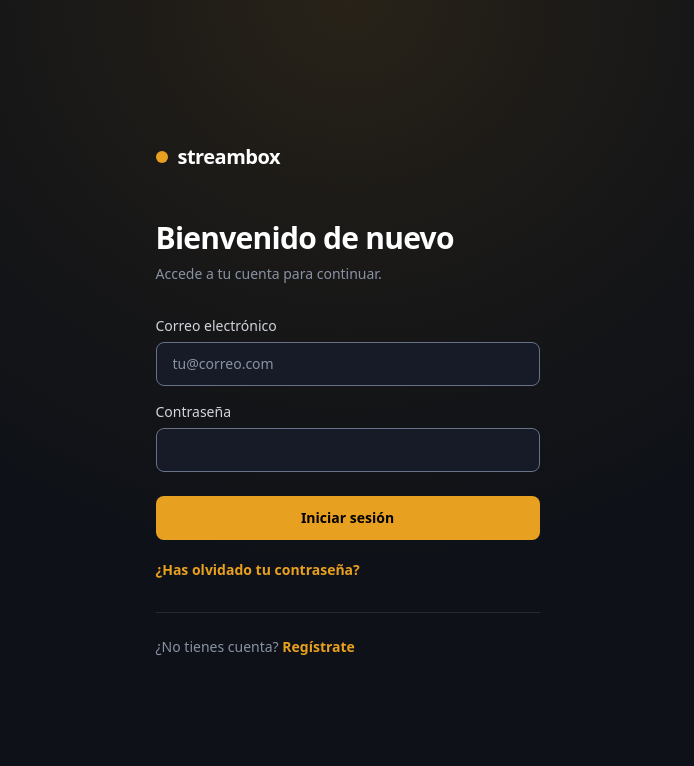
Test case: LoginPage › intentos restantes (401 con remainingAttempts) › sin remainingAttempts (o con un valor que no es un entero ≥ 1) no inventa ningún aviso
The image size is (694, 766).
Type "ana@example.com" into the field labelled "Correo electrónico". click: (348, 364)
box: x1=156 y1=342 x2=540 y2=386
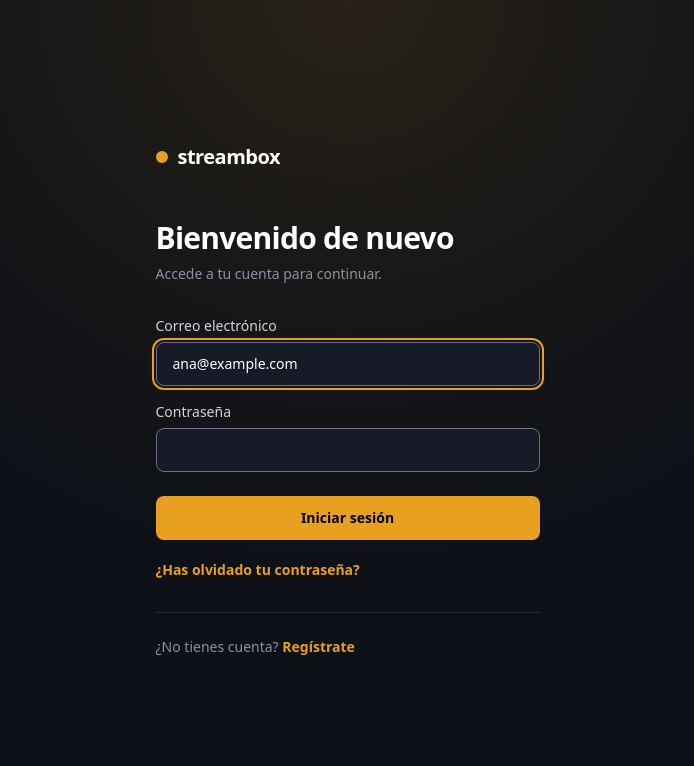
Type "secreta123" into the password field labelled "Contraseña". click: (348, 450)
box: x1=156 y1=428 x2=540 y2=472
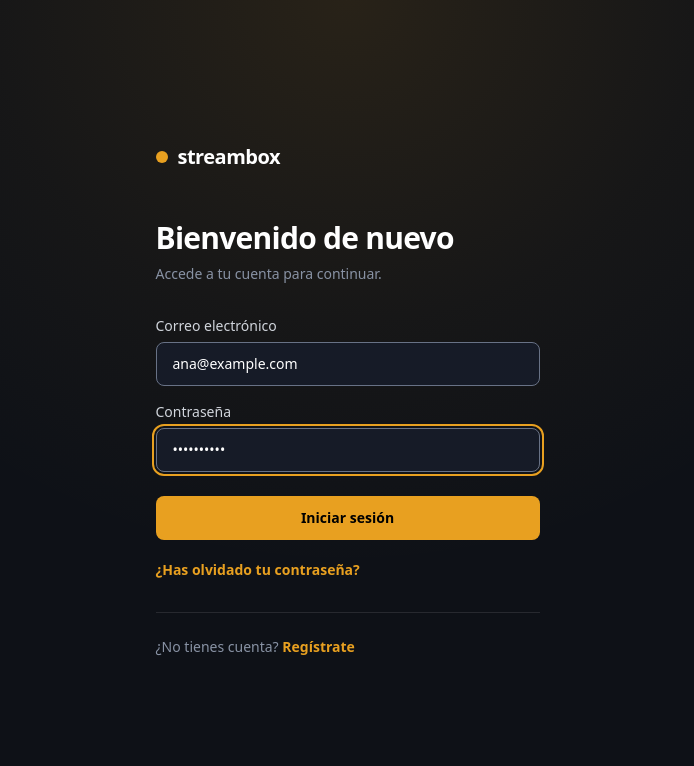
Click the button "Iniciar sesión". click: (348, 518)
box: x1=156 y1=496 x2=540 y2=540
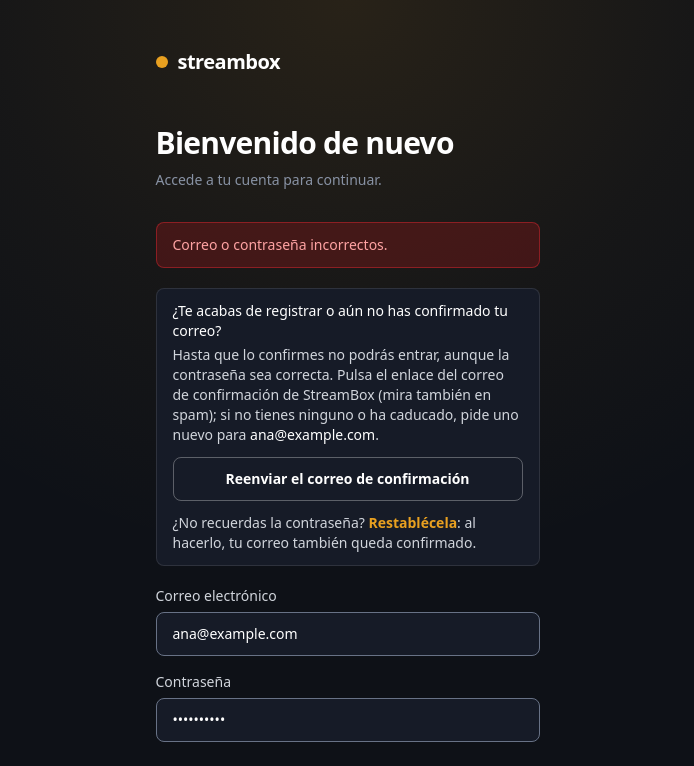
expect the text "Correo o contraseña incorrectos." is shown: met, box x1=156 y1=222 x2=540 y2=268
